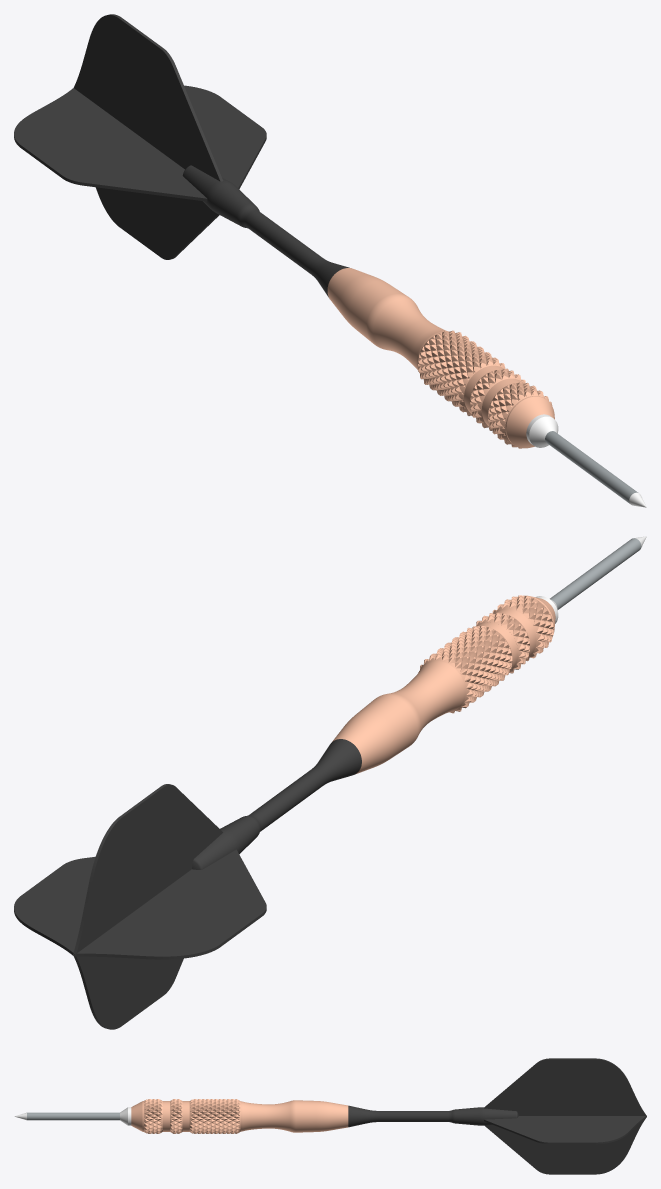
File: dart.fbx
The picture shows the model from 3 angles, top to bottom: view 1: azimuth 30°, elevation 25°; view 2: azimuth 150°, elevation 25°; view 3: azimuth 270°, elevation 25°; orthographic projection. The views are drawn at different scales.
Parts seen in each view (by area): view 1: Wing1, Wing2, Body, Tail, Head; view 2: Wing1, Wing2, Body, Tail, Head; view 3: Wing1, Body, Wing2, Tail, Head.
Part boxes in pixels (x1=…): Wing1: x1=73, y1=14, x2=223, y2=259; Wing2: x1=14, y1=85, x2=266, y2=201; Body: x1=327, y1=268, x2=554, y2=448; Tail: x1=182, y1=165, x2=349, y2=297; Head: x1=526, y1=414, x2=646, y2=507; Wing1: x1=73, y1=784, x2=222, y2=1029; Wing2: x1=14, y1=849, x2=266, y2=959; Body: x1=332, y1=595, x2=555, y2=774; Tail: x1=192, y1=739, x2=361, y2=869; Head: x1=536, y1=536, x2=646, y2=623; Wing1: x1=484, y1=1058, x2=646, y2=1174; Body: x1=131, y1=1099, x2=348, y2=1133; Wing2: x1=484, y1=1115, x2=646, y2=1144; Tail: x1=348, y1=1105, x2=518, y2=1127; Head: x1=14, y1=1107, x2=131, y2=1125.
Bounding box in the file's own units: 1.77 × 1.77 × 8.82.
